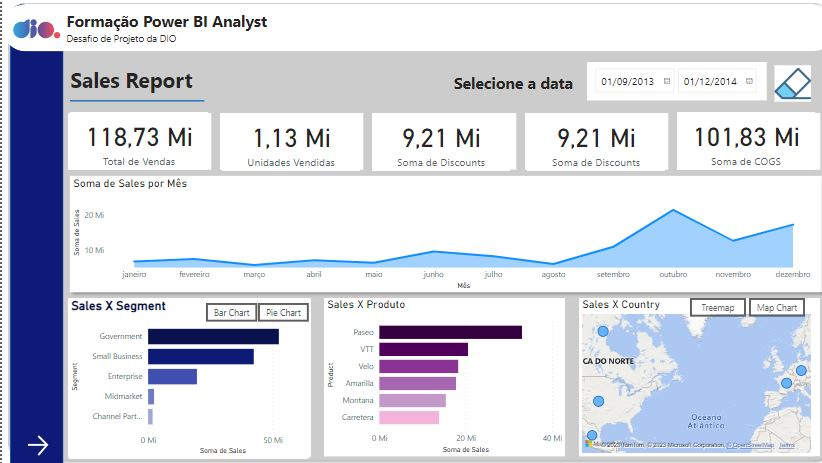

What the dashboard file says about the page in this screenshot:
{"tool":"powerbi","page":{"name":"Página 1","canvas":[1280,720],"ordinal":0},"visuals":[{"type":"shape","box":[0,0,1280.5,720],"z":0},{"type":"image","title":"Clean","box":[1179.6,100.4,68.7,66],"z":0,"group":"g4"},{"type":"shape","box":[101,178.6,220,87.1],"z":0,"group":"g2"},{"type":"shape","box":[103.9,462.4,370,242.9],"z":0,"group":"g1"},{"type":"slicer","fields":{"Values":["financials.Date"]},"box":[897.8,100.4,276.3,59.1],"z":1000,"group":"g4"},{"type":"shape","box":[334.7,178.6,220,87.1],"z":1000,"group":"g2"},{"type":"group","id":"g1","title":"Grupo 1","box":[103.9,462.4,1151.7,242.9],"z":1000},{"type":"shape","box":[885.4,462.4,370.2,242.9],"z":1000,"group":"g1"},{"type":"map","title":"Sales X Country","fields":{"Size":["Sum(financials. Sales)"],"Category":["financials.Country"]},"box":[885,462.5,361.5,242.9],"z":1000,"group":"g3"},{"type":"shape","box":[11.7,10.2,82,709.8],"z":2000},{"type":"textbox","box":[674.1,111,221.9,54.6],"z":2000,"group":"g4"},{"type":"shape","box":[568.5,178.6,220,87.1],"z":2000,"group":"g2"},{"type":"shape","box":[494.5,462.4,370.2,242.9],"z":2000,"group":"g1"},{"type":"actionButton","title":"Botão Map Chart","box":[1145.7,461.9,85.9,28.6],"z":2250,"group":"g3"},{"type":"actionButton","title":"Botão Treemap","box":[1056.2,461.9,85.9,28.6],"z":2500,"group":"g3"},{"type":"shape","box":[802.2,178.6,220,87.1],"z":3000,"group":"g2"},{"type":"shape","box":[1035.9,178.6,220,87.1],"z":4000,"group":"g2"},{"type":"shape","title":"Forma","box":[0,10,1280,72.9],"z":5000},{"type":"card","fields":{"Values":["Sum(financials. Sales)"]},"box":[103.9,177.1,212.2,89.3],"z":5000,"group":"g2"},{"type":"image","box":[11.7,16.1,82,67.3],"z":5500},{"type":"textbox","title":"Título do report","box":[93.7,16.1,1091.7,67.3],"z":6000},{"type":"card","fields":{"Values":["Sum(financials.Units Sold)"]},"box":[338.1,178.6,212.2,89.3],"z":6000,"group":"g2"},{"type":"shape","box":[103.9,153.7,206.3,11.7],"z":7000},{"type":"card","fields":{"Values":["Sum(financials.Discounts)"]},"box":[567.8,178.6,212.2,89.3],"z":7000,"group":"g2"},{"type":"textbox","box":[99.5,99.5,216.6,54.1],"z":8000},{"type":"card","fields":{"Values":["Sum(financials.COGS)"]},"box":[1036.1,177.1,212.2,89.3],"z":8000,"group":"g2"},{"type":"card","fields":{"Values":["Sum(financials.Discounts)"]},"box":[804.9,178.6,212.2,89.3],"z":9000,"group":"g2"},{"type":"shape","box":[95.1,266.3,1172.2,196.1],"z":9000},{"type":"group","id":"g2","title":"Cartões","box":[101,177.1,1154.9,90.7],"z":10000},{"type":"areaChart","fields":{"Y":["Sum(financials. Sales)"],"Category":["financials.Date.Variation.Hierarquia de datas.Mês"]},"box":[103.9,276.6,1151.7,177.1],"z":11000},{"type":"clusteredBarChart","title":"Sales X Produto","fields":{"Y":["Sum(financials. Sales)"],"Category":["financials.Product"]},"box":[494.6,462.4,370.2,242.9],"z":12000},{"type":"group","id":"g3","title":"Sales X País","box":[883.9,461.9,362.5,243.5],"z":13000},{"type":"group","id":"g4","title":"Grupo 2","box":[674.1,100.4,574.2,66],"z":14000},{"type":"actionButton","title":"Botão avançar","box":[34.2,667.5,59.5,41.6],"z":15000},{"type":"donutChart","title":"Sales X Segment","fields":{"Y":["Sum(financials. Sales)"],"Category":["financials.Segment"]},"box":[104,462,367,247],"z":15500,"group":"g5"},{"type":"clusteredBarChart","title":"Sales X Segment","fields":{"Y":["Sum(financials. Sales)"],"Category":["financials.Segment"]},"box":[101.7,462,372.4,245.3],"z":16000,"group":"g5"},{"type":"group","id":"g5","title":"Sales X Segment","box":[101.7,462,372.4,247],"z":19001},{"type":"actionButton","title":"Botão Bar Chart","box":[313.4,469.2,78.8,28.6],"z":19500,"group":"g5"},{"type":"actionButton","title":"Botão Pie Chart","box":[394,469.2,78,28.6],"z":20000,"group":"g5"}]}

Visuals, with their boxes in screenshot pixels (x1, y1, x2, y2):
shape: crop(0, 0, 821, 462)
"Clean" image: crop(772, 60, 817, 103)
shape: crop(64, 111, 209, 168)
shape: crop(66, 297, 309, 457)
slicer - financials.Date: crop(587, 60, 769, 98)
shape: crop(218, 111, 362, 168)
"Grupo 1" group: crop(66, 297, 821, 457)
shape: crop(579, 297, 821, 457)
"Sales X Country" map: crop(579, 297, 816, 457)
shape: crop(6, 0, 59, 462)
textbox: crop(440, 66, 586, 102)
shape: crop(371, 111, 516, 168)
shape: crop(323, 297, 566, 457)
"Botão Map Chart" actionButton: crop(750, 297, 807, 316)
"Botão Treemap" actionButton: crop(691, 297, 748, 316)
shape: crop(525, 111, 669, 168)
shape: crop(678, 111, 821, 168)
"Forma" shape: crop(0, 0, 821, 48)
card - Sum(financials. Sales): crop(66, 110, 205, 168)
image: crop(6, 4, 59, 48)
"Título do report" textbox: crop(59, 4, 776, 48)
card - Sum(financials.Units Sold): crop(220, 111, 359, 169)
shape: crop(66, 94, 202, 102)
card - Sum(financials.Discounts): crop(371, 111, 510, 169)
textbox: crop(63, 59, 205, 94)
card - Sum(financials.COGS): crop(678, 110, 817, 168)
card - Sum(financials.Discounts): crop(526, 111, 666, 169)
shape: crop(60, 168, 821, 297)
"Cartões" group: crop(64, 110, 821, 169)
areaChart - Sum(financials. Sales) x financials.Date.Variation.Hierarquia de datas.Mês: crop(66, 175, 821, 291)
"Sales X Produto" clusteredBarChart: crop(323, 297, 566, 457)
"Sales X País" group: crop(578, 297, 816, 457)
"Grupo 2" group: crop(440, 60, 817, 103)
"Botão avançar" actionButton: crop(20, 432, 59, 459)
"Sales X Segment" donutChart: crop(66, 297, 307, 459)
"Sales X Segment" clusteredBarChart: crop(65, 297, 309, 458)
"Sales X Segment" group: crop(65, 297, 309, 459)
"Botão Bar Chart" actionButton: crop(204, 302, 255, 320)
"Botão Pie Chart" actionButton: crop(257, 302, 308, 320)
